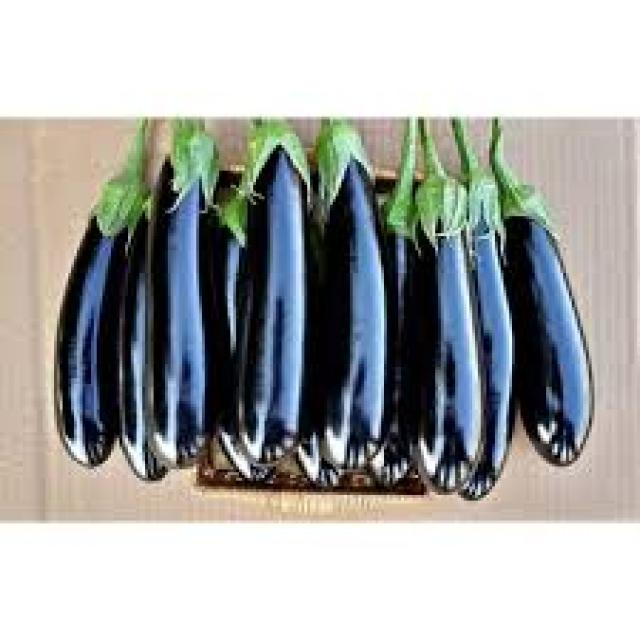eggplant: (316, 128, 392, 469), (501, 182, 588, 464), (404, 171, 481, 489), (51, 162, 128, 467), (239, 122, 304, 464), (154, 122, 213, 470), (455, 171, 515, 495)
